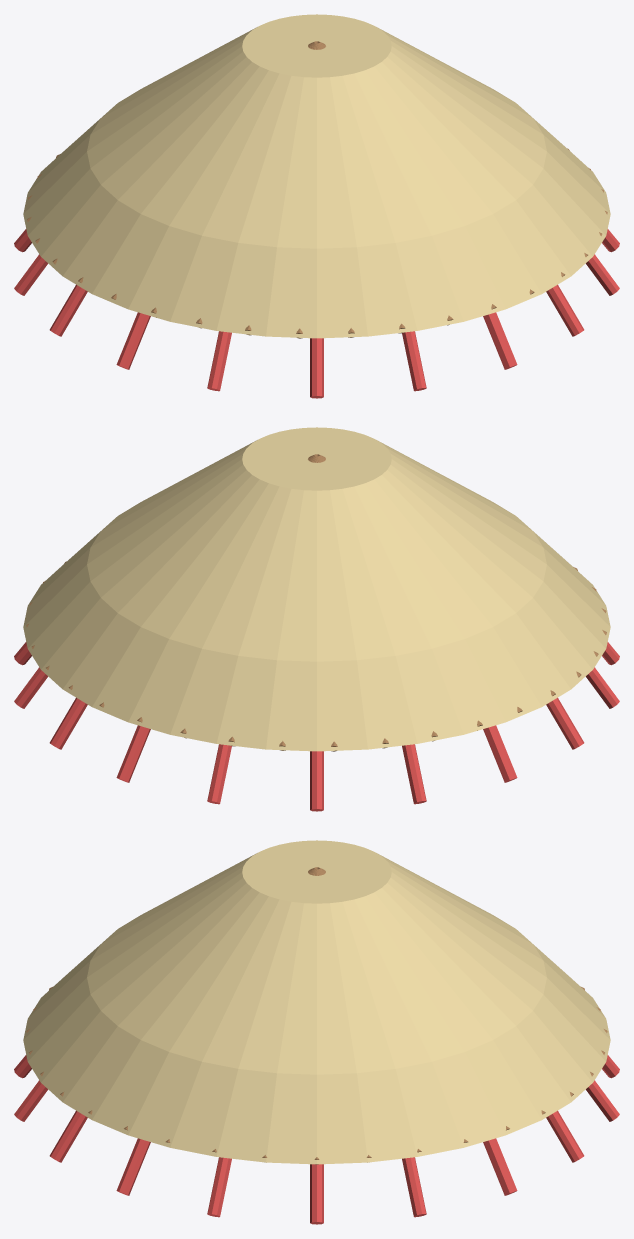
Rendered from local_kasaodori_hat.glb.
The picture shows the model from 3 angles, top to bottom: view 1: azimuth 30°, elevation 25°; view 2: azimuth 150°, elevation 25°; view 3: azimuth 270°, elevation 25°; orthographic projection.
Parts seen in each view (by area): view 1: Tall kasaodori straw dance hat, Umbrella dancers red cloth strips_00.012, Umbrella dancers red cloth strips_00.010, Umbrella dancers red cloth strips_00.014, Umbrella dancers red cloth strips_00.011, Umbrella dancers red cloth strips_00.013, Umbrella dancers red cloth strips_00.009, Umbrella dancers red cloth strips_00.015, Umbrella dancers red cloth strips_00.008, Umbrella dancers red cloth strips_00.016; view 2: Tall kasaodori straw dance hat, Umbrella dancers red cloth strips_00.006, Umbrella dancers red cloth strips_00.004, Umbrella dancers red cloth strips_00.008, Umbrella dancers red cloth strips_00.007, Umbrella dancers red cloth strips_00.005, Umbrella dancers red cloth strips_00.003, Umbrella dancers red cloth strips_00.009, Umbrella dancers red cloth strips_00.002, Umbrella dancers red cloth strips_00.010; view 3: Tall kasaodori straw dance hat, Umbrella dancers red cloth strips_00, Umbrella dancers red cloth strips_00.002, Umbrella dancers red cloth strips_00.016, Umbrella dancers red cloth strips_00.001, Umbrella dancers red cloth strips_00.017, Umbrella dancers red cloth strips_00.003, Umbrella dancers red cloth strips_00.015, Umbrella dancers red cloth strips_00.004, Umbrella dancers red cloth strips_00.014.
Boxes of the visible parts, <box> form: Tall kasaodori straw dance hat: <box>23,14,610,338</box>; Umbrella dancers red cloth strips_00.012: <box>310,338,323,398</box>; Umbrella dancers red cloth strips_00.010: <box>116,312,150,369</box>; Umbrella dancers red cloth strips_00.014: <box>483,312,517,369</box>; Umbrella dancers red cloth strips_00.011: <box>207,331,231,391</box>; Umbrella dancers red cloth strips_00.013: <box>402,331,426,391</box>; Umbrella dancers red cloth strips_00.009: <box>49,284,87,336</box>; Umbrella dancers red cloth strips_00.015: <box>546,284,584,336</box>; Umbrella dancers red cloth strips_00.008: <box>14,254,47,295</box>; Umbrella dancers red cloth strips_00.016: <box>586,254,619,295</box>; Tall kasaodori straw dance hat: <box>23,427,610,751</box>; Umbrella dancers red cloth strips_00.006: <box>310,751,323,811</box>; Umbrella dancers red cloth strips_00.004: <box>116,725,150,782</box>; Umbrella dancers red cloth strips_00.008: <box>483,725,517,782</box>; Umbrella dancers red cloth strips_00.007: <box>402,744,426,804</box>; Umbrella dancers red cloth strips_00.005: <box>207,744,231,804</box>; Umbrella dancers red cloth strips_00.003: <box>49,697,87,749</box>; Umbrella dancers red cloth strips_00.009: <box>546,697,584,749</box>; Umbrella dancers red cloth strips_00.002: <box>14,667,47,708</box>; Umbrella dancers red cloth strips_00.010: <box>586,667,619,708</box>; Tall kasaodori straw dance hat: <box>23,840,610,1164</box>; Umbrella dancers red cloth strips_00: <box>310,1164,323,1224</box>; Umbrella dancers red cloth strips_00.002: <box>483,1138,517,1195</box>; Umbrella dancers red cloth strips_00.016: <box>116,1138,150,1195</box>; Umbrella dancers red cloth strips_00.001: <box>402,1157,426,1217</box>; Umbrella dancers red cloth strips_00.017: <box>207,1157,231,1217</box>; Umbrella dancers red cloth strips_00.003: <box>546,1110,584,1162</box>; Umbrella dancers red cloth strips_00.015: <box>49,1110,87,1162</box>; Umbrella dancers red cloth strips_00.004: <box>586,1080,619,1121</box>; Umbrella dancers red cloth strips_00.014: <box>14,1080,47,1121</box>.
Size of the model in its own units: 1.95 by 0.8651 by 1.92.
